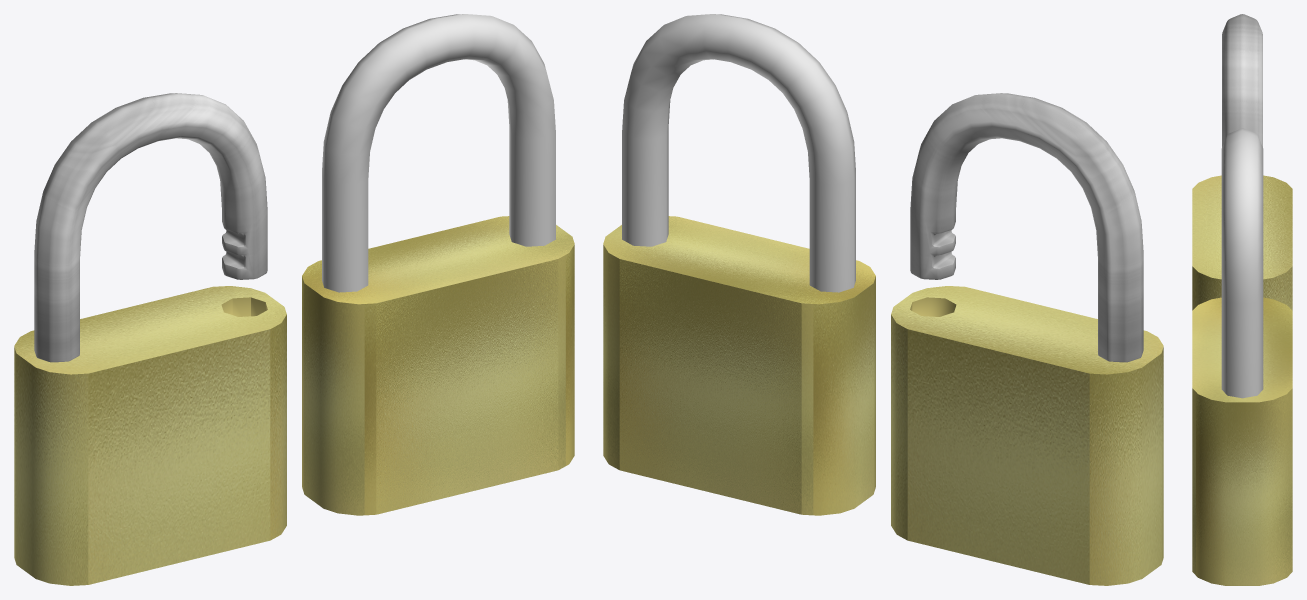
The model's file is 43 Lock.fbx.
The picture shows the model from 3 angles, left to right: view 1: azimuth 30°, elevation 25°; view 2: azimuth 150°, elevation 25°; view 3: azimuth 270°, elevation 25°; orthographic projection. The views are drawn at different scales.
Parts seen in each view (by area): view 1: Object001, Box004, Line003, Line001; view 2: Object001, Box004, Line003, Line001; view 3: Box004, Line003, Object001, Line001.
Boxes of the visible parts, bbox=[...] form: Object001: bbox=[14, 286, 286, 585]; Box004: bbox=[302, 216, 574, 515]; Line003: bbox=[322, 14, 555, 292]; Line001: bbox=[34, 93, 267, 362]; Object001: bbox=[891, 286, 1163, 585]; Box004: bbox=[603, 216, 875, 515]; Line003: bbox=[622, 14, 855, 292]; Line001: bbox=[910, 93, 1143, 362]; Box004: bbox=[1192, 297, 1292, 585]; Line003: bbox=[1221, 128, 1263, 398]; Object001: bbox=[1192, 175, 1292, 310]; Line001: bbox=[1222, 14, 1262, 147].
Size of the model in its own units: 321 by 259 by 60.
2 materials, 2 textured.
